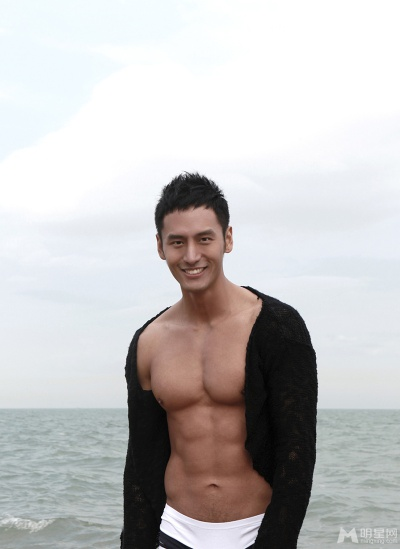male: (140, 173, 243, 296)
